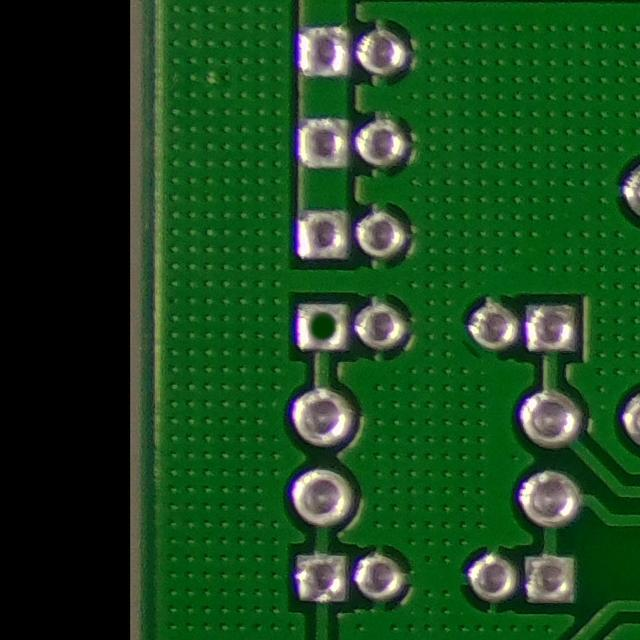missing_hole: (289, 290, 350, 351)
